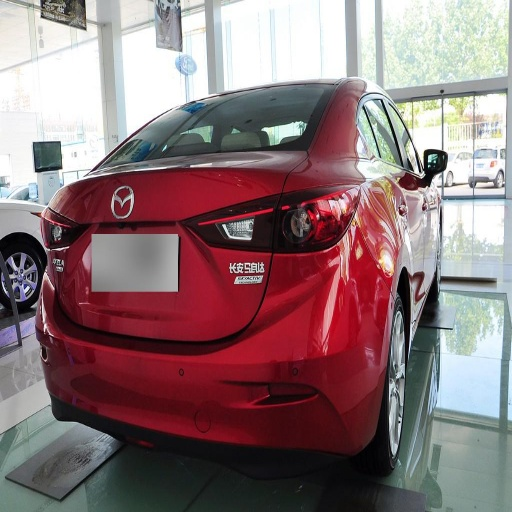_background_: (44, 237, 390, 452)
back_bumper: (114, 91, 312, 158)
back_left_light: (368, 110, 418, 240)
back_right_door: (282, 187, 355, 252)
front_bumper: (296, 85, 354, 116)
front_glass: (419, 200, 439, 272)
front_left_light: (373, 99, 433, 221)
right_mirror: (127, 222, 272, 340), (83, 151, 276, 232)
tailgate: (60, 153, 313, 336), (248, 242, 295, 294)
trunk: (371, 296, 426, 470)
